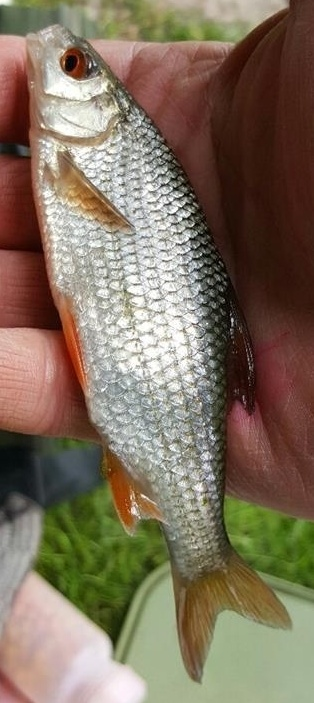Rutilus rutilus: (20, 20, 294, 683)
